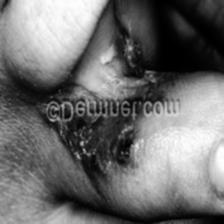Toxin: (56, 120, 140, 164), (101, 29, 151, 92)
